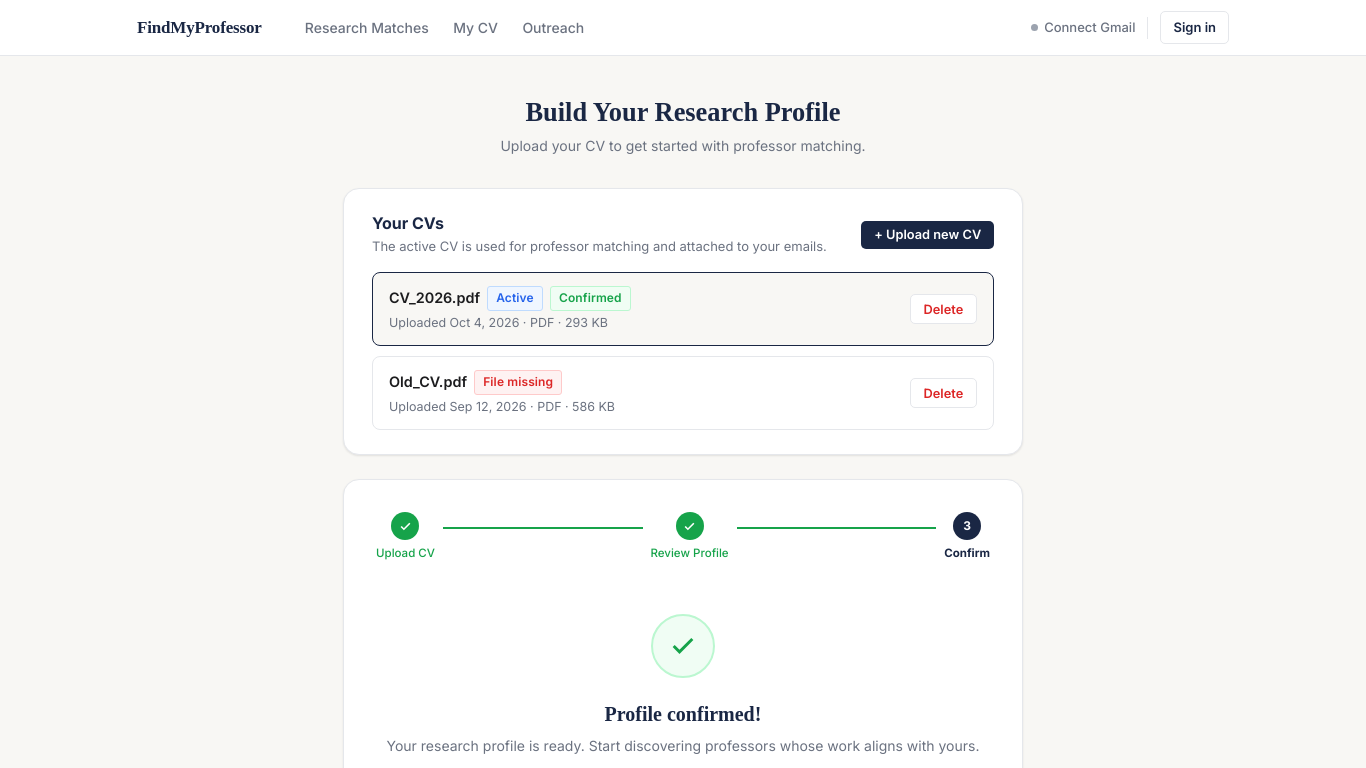
Scenario: My CV library › deletes a CV only after an inline confirmation
Step 1. Click the button with aria-label "Delete Old_CV.pdf" → x=943, y=393, box [910,378,977,408]
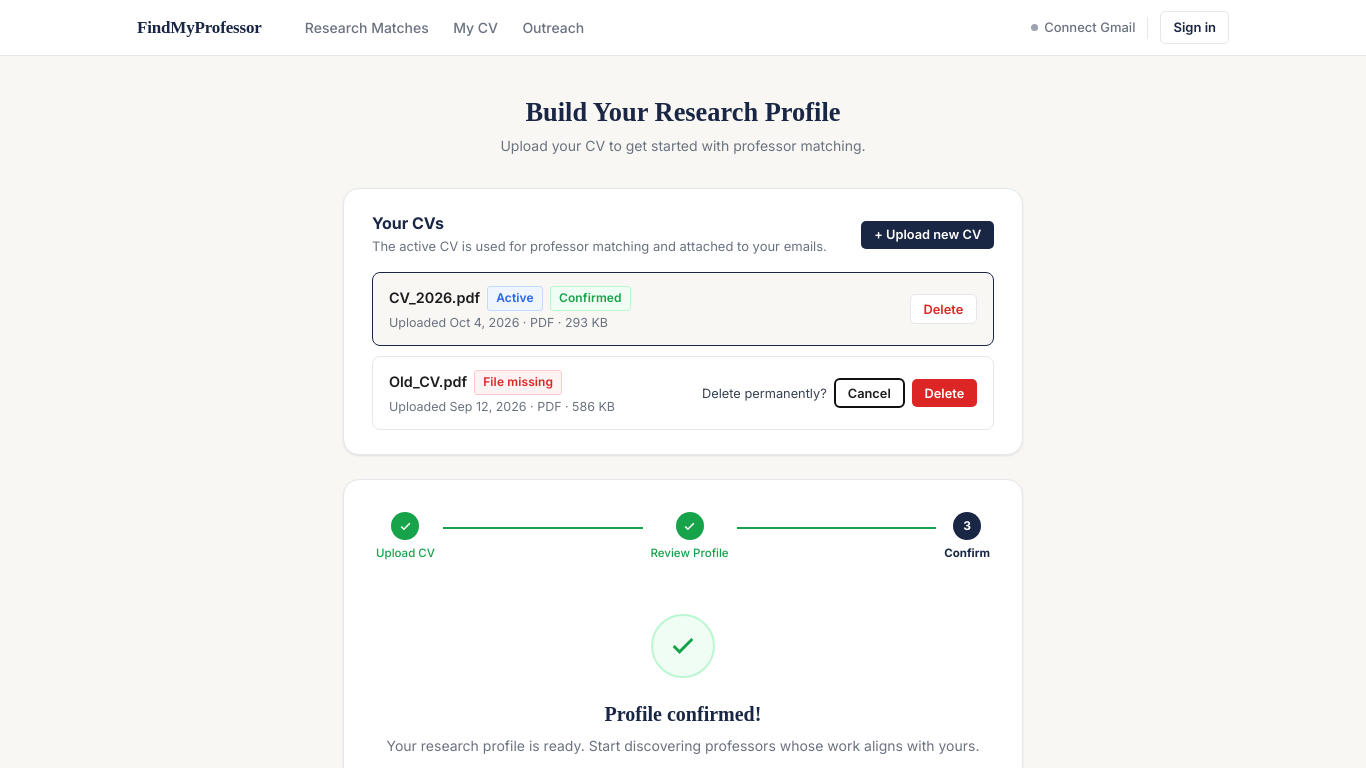
Step 2. Click the button "Delete" in the row of "Delete permanently?" → x=944, y=393, box [912,379,977,407]
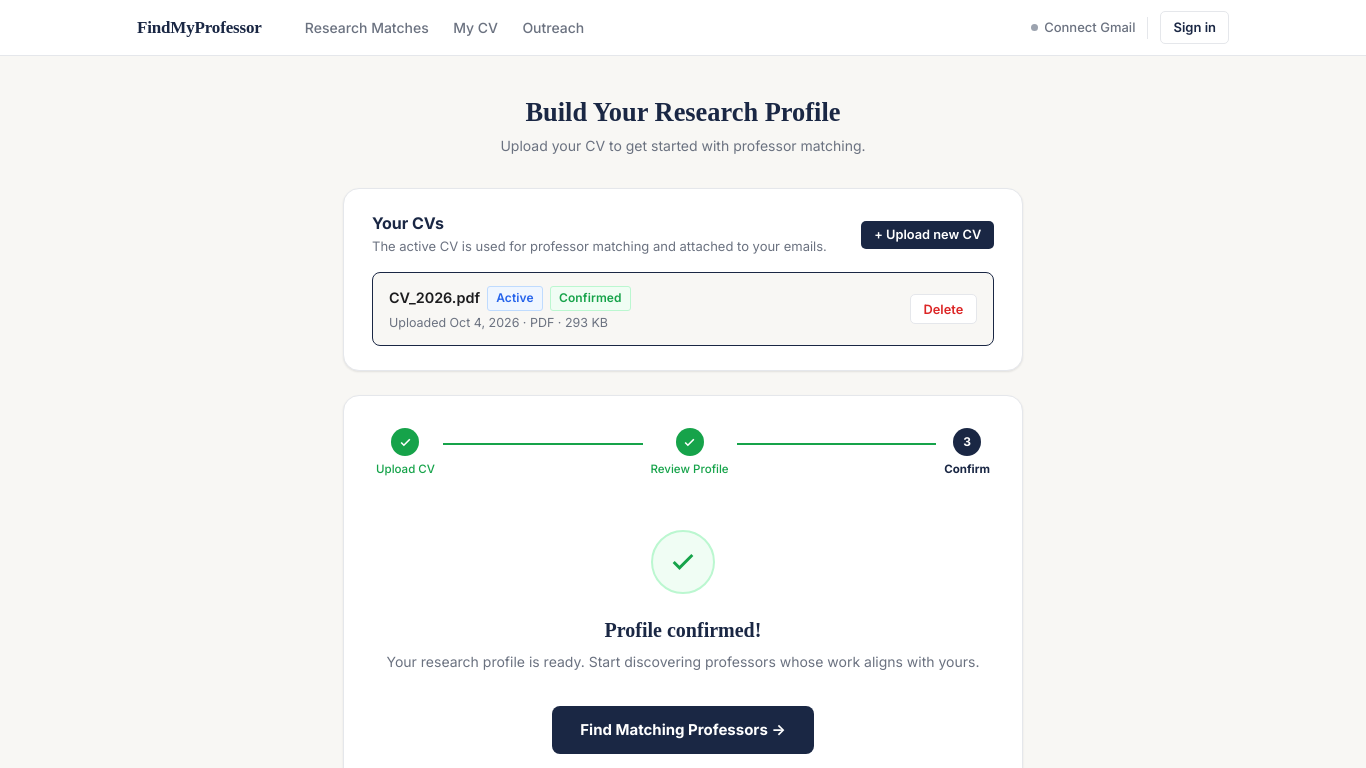
Now the number of list items with test id "cv-row" is 1, box [372,272,994,346]
